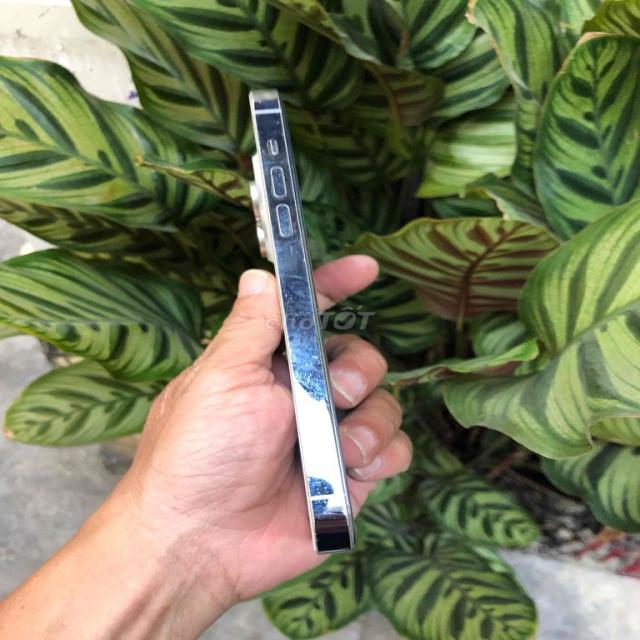gen_14: (228, 78, 380, 562)
scratch: (276, 269, 337, 404), (258, 159, 323, 264), (301, 445, 350, 540), (249, 86, 285, 141)
